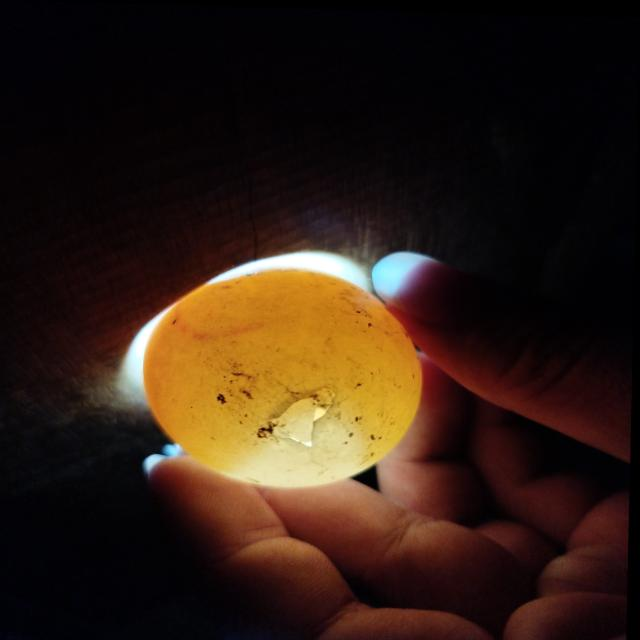Rachadura: (273, 385, 338, 446)
